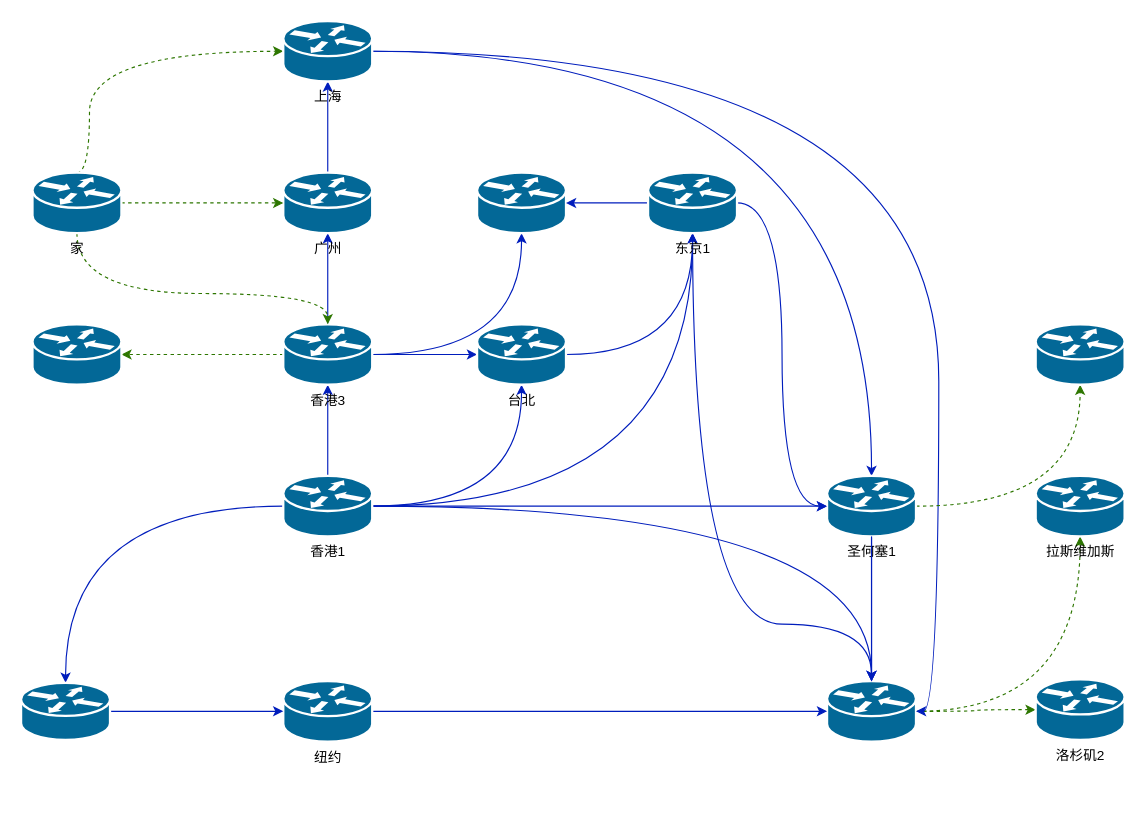
Image size: 1145x816. Some labels were removed from this diagram. Each missing label, with the centre of its shape:
东京2: the point at 521,202
圣何塞2: the point at 1079,354
法兰克福: the point at 65,710
洛杉矶1: the point at 871,710
香港2: the point at 76,354
